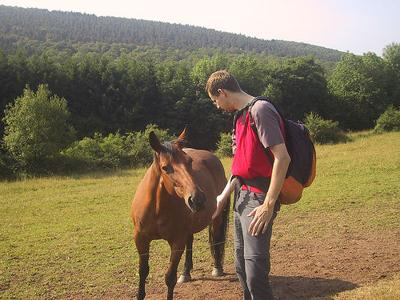person: (206, 71, 291, 300)
